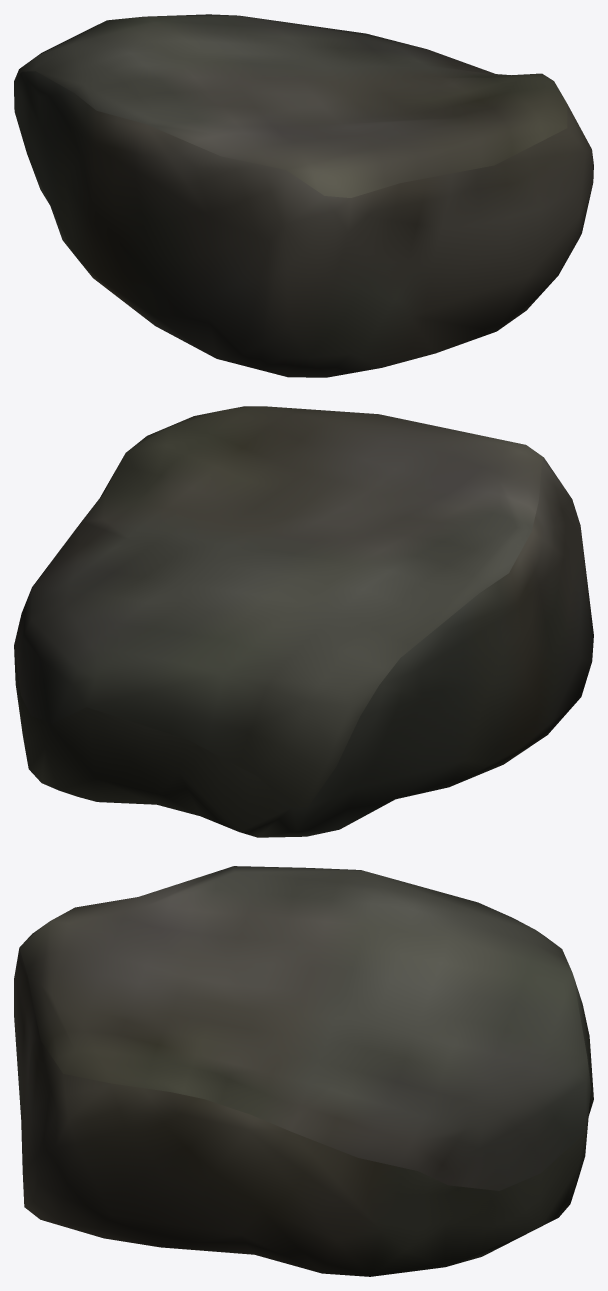
3 views of the same model, one above another, from view 1: azimuth 30°, elevation 25°; view 2: azimuth 150°, elevation 25°; view 3: azimuth 270°, elevation 25° (orthographic). The views are drawn at different scales.
Visible parts, largest first — view 1: smallrock1; view 2: smallrock1; view 3: smallrock1.
Boxes of the visible parts, x1,y1,x2,y2 form: smallrock1: (14,14,593,377); smallrock1: (14,406,593,837); smallrock1: (14,866,593,1276).
Size of the model in its own units: 1.82 by 0.9126 by 2.06.
Materials: 1 (1 with a texture image).
